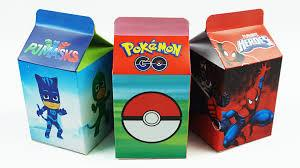Tetra pack: (9, 1, 300, 168)
